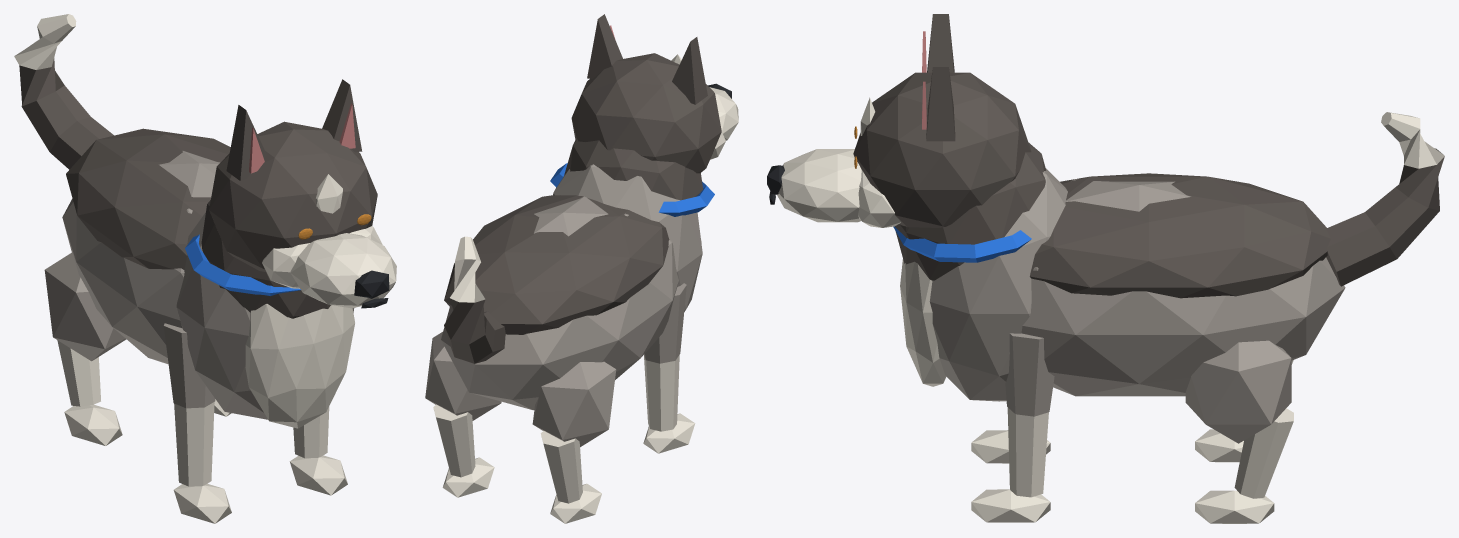
Rendered from Mush_LowPoly_Malamute.fbx.
3 views of the same model, side by side, from view 1: azimuth 30°, elevation 25°; view 2: azimuth 150°, elevation 25°; view 3: azimuth 270°, elevation 25° (orthographic). The views are drawn at different scales.
Visible parts, largest first — view 1: Malamute_Head, Malamute_Saddle, Malamute_ChestWhite, Malamute_Torso, Malamute_Chest, Malamute_Tail, Malamute_Muzzle, Malamute_Rear_L_Thigh, Malamute_Neck, Malamute_Front_L_Lower, Malamute_Front_L_Upper, Malamute_Rear_L_Shin (+11 smaller); view 2: Malamute_Saddle, Malamute_Torso, Malamute_Head, Malamute_Chest, Malamute_Rear_L_Thigh, Malamute_Tail, Malamute_Neck, Malamute_Rear_R_Thigh, Malamute_Front_L_Lower, Malamute_Rear_R_Shin, Malamute_Rear_L_Shin, Malamute_Front_L_Upper (+7 smaller); view 3: Malamute_Saddle, Malamute_Torso, Malamute_Head, Malamute_Chest, Malamute_Tail, Malamute_Rear_R_Thigh, Malamute_Neck, Malamute_Muzzle, Malamute_ChestWhite, Malamute_Front_R_Upper, Malamute_Front_R_Lower, Malamute_Rear_R_Shin (+8 smaller).
Boxes of the visible parts, x1,y1,x2,y2 form: Malamute_Head: (209, 121, 377, 272); Malamute_Saddle: (66, 128, 230, 269); Malamute_ChestWhite: (245, 304, 354, 428); Malamute_Torso: (62, 151, 219, 364); Malamute_Chest: (176, 212, 354, 419); Malamute_Tail: (14, 14, 113, 169); Malamute_Muzzle: (290, 233, 396, 308); Malamute_Rear_L_Thigh: (44, 252, 126, 361); Malamute_Neck: (201, 200, 331, 318); Malamute_Front_L_Lower: (174, 402, 214, 486); Malamute_Front_L_Upper: (163, 323, 215, 408); Malamute_Rear_L_Shin: (57, 340, 100, 406); Malamute_Saddle: (444, 195, 669, 334); Malamute_Torso: (441, 196, 678, 410); Malamute_Head: (571, 53, 721, 173); Malamute_Chest: (553, 164, 702, 311); Malamute_Rear_L_Thigh: (532, 361, 616, 447); Malamute_Tail: (444, 236, 505, 363); Malamute_Neck: (564, 139, 703, 200); Malamute_Rear_R_Thigh: (425, 332, 501, 420); Malamute_Front_L_Lower: (644, 355, 679, 431); Malamute_Rear_R_Shin: (433, 404, 475, 477); Malamute_Rear_L_Shin: (540, 431, 582, 503); Malamute_Front_L_Upper: (644, 283, 686, 363); Malamute_Saddle: (1029, 173, 1330, 298); Malamute_Torso: (1021, 179, 1345, 396); Malamute_Head: (853, 72, 1031, 227); Malamute_Chest: (929, 168, 1067, 401); Malamute_Tail: (1326, 112, 1444, 286); Malamute_Rear_R_Thigh: (1185, 340, 1291, 443); Malamute_Neck: (895, 142, 1046, 280); Malamute_Muzzle: (777, 149, 861, 222); Malamute_ChestWhite: (900, 259, 946, 386); Malamute_Front_R_Upper: (1005, 333, 1054, 416); Malamute_Front_R_Lower: (1007, 407, 1048, 497); Malamute_Rear_R_Shin: (1234, 408, 1293, 498).
Bounding box in the file's own units: 123 × 257 × 348.
